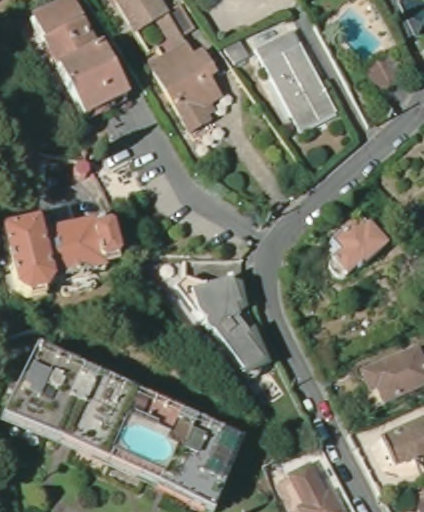pool: (332, 7, 384, 58), (119, 423, 176, 463)
